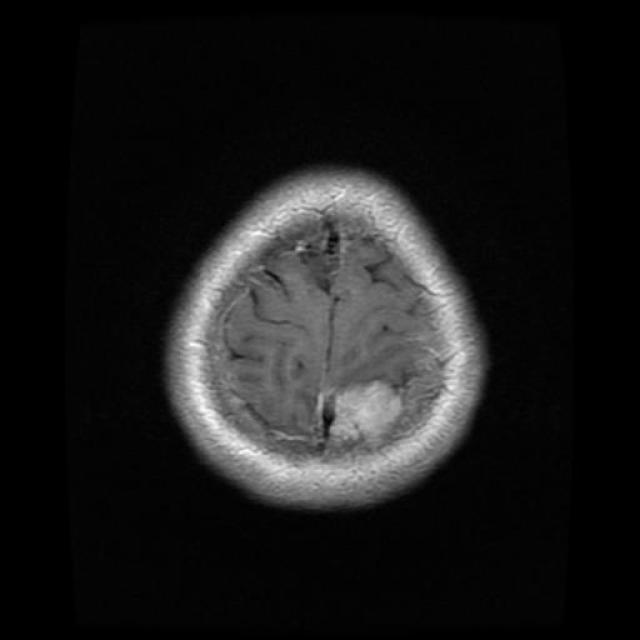meningioma: (330, 380, 406, 448)
